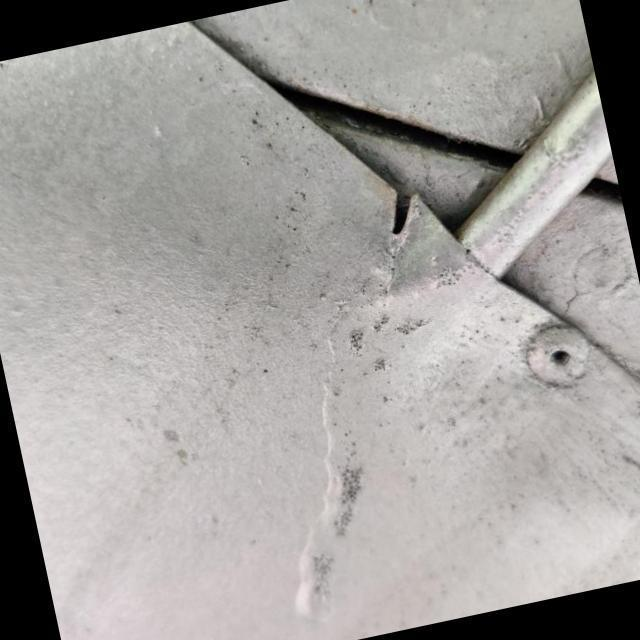Rupture: (360, 162, 446, 260)
